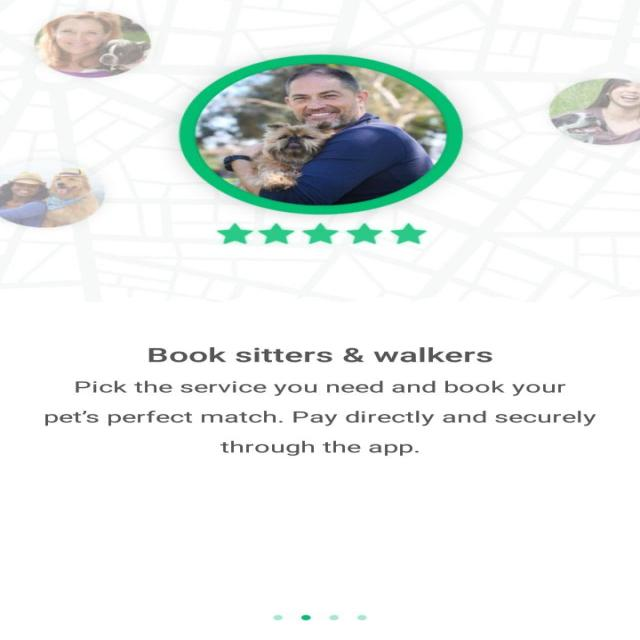Icon: (216, 222, 427, 244)
Image: (0, 0, 639, 303)
Text: (44, 410, 596, 426), (74, 380, 566, 396), (148, 346, 492, 363), (220, 440, 418, 456)
